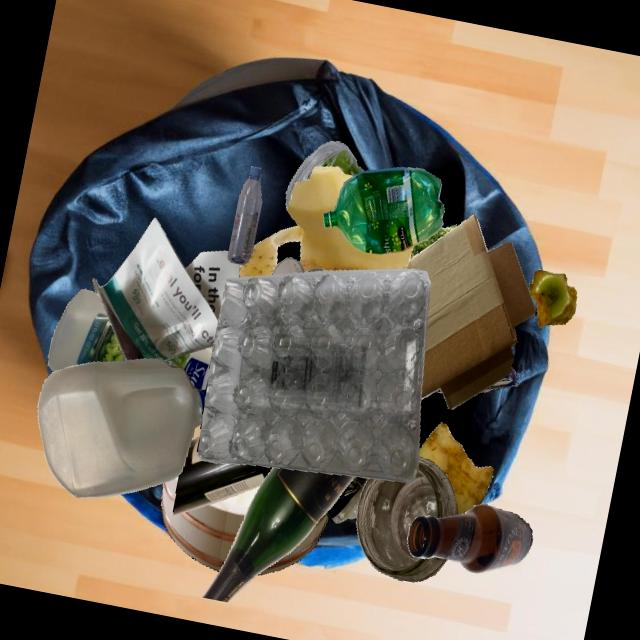biowaste: (239, 167, 414, 278), (419, 422, 493, 515), (529, 269, 577, 328), (409, 225, 457, 260)
cardboard: (406, 214, 535, 410), (480, 368, 518, 393)
combustible waste: (200, 437, 321, 571)
glass: (201, 467, 355, 602), (356, 457, 458, 582), (407, 504, 532, 574), (173, 437, 273, 516), (271, 257, 326, 275)
paper: (92, 218, 240, 361)
plastic: (197, 269, 430, 483), (38, 359, 206, 498), (323, 167, 444, 255), (48, 289, 126, 372), (286, 141, 364, 211), (228, 166, 262, 265), (164, 346, 213, 390), (326, 477, 369, 523)
